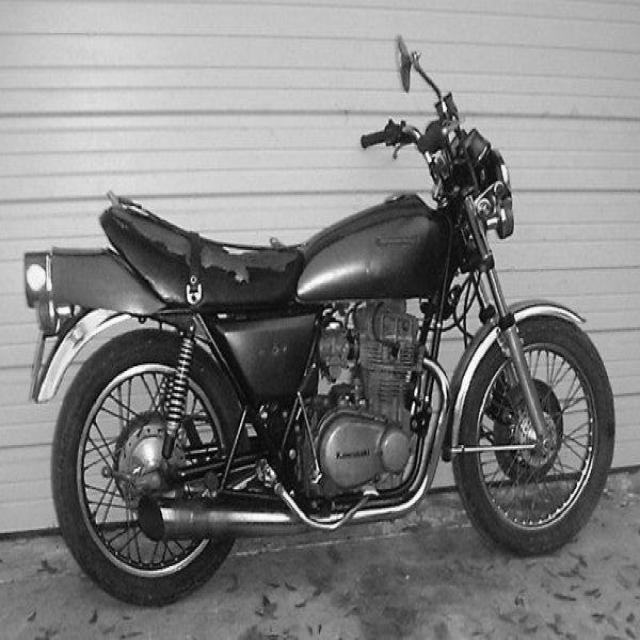Motorcycle: (25, 39, 616, 605)
